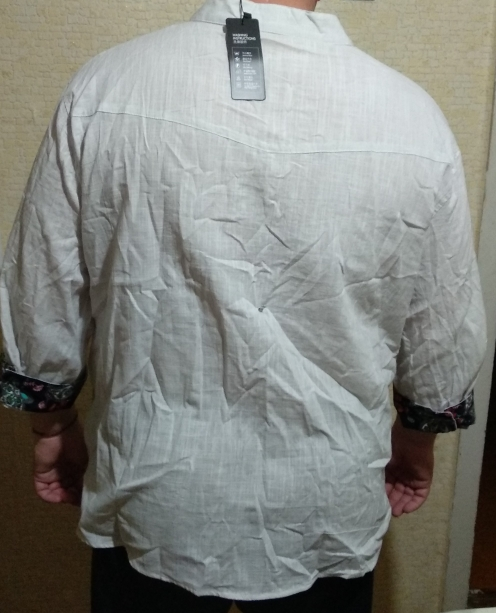shirts: (17, 9, 475, 590)
